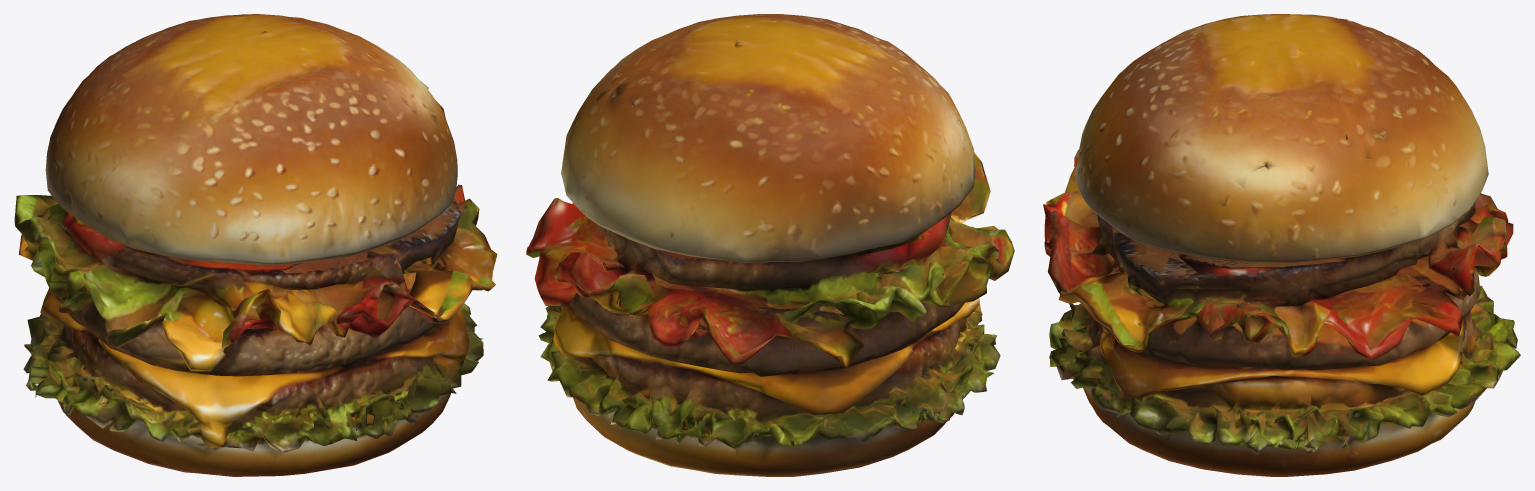
The model's file is burger.glb.
3 views of the same model, side by side, from view 1: azimuth 30°, elevation 25°; view 2: azimuth 150°, elevation 25°; view 3: azimuth 270°, elevation 25° (orthographic).
Parts seen in each view (by area): view 1: Mesh1_Material.001_0; view 2: Mesh1_Material.001_0; view 3: Mesh1_Material.001_0.
Part boxes in pixels (x1,y1,x2,y2): Mesh1_Material.001_0: (14, 14, 497, 476); Mesh1_Material.001_0: (526, 14, 1014, 476); Mesh1_Material.001_0: (1043, 14, 1520, 476).
Bounding box in the file's own units: 1.99 × 1.66 × 2.
Materials: 1 (1 with a texture image).
